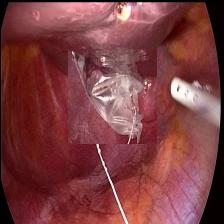Irrigator: (166, 66, 211, 122)
Specimen Bag: (67, 48, 156, 143)
